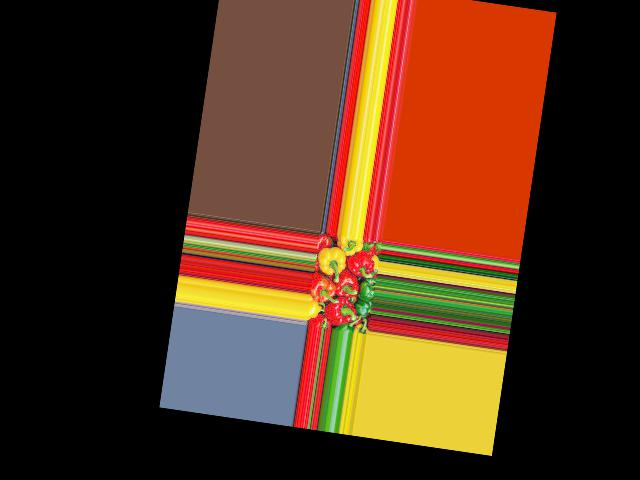bell_pepper: (306, 300, 321, 318)
